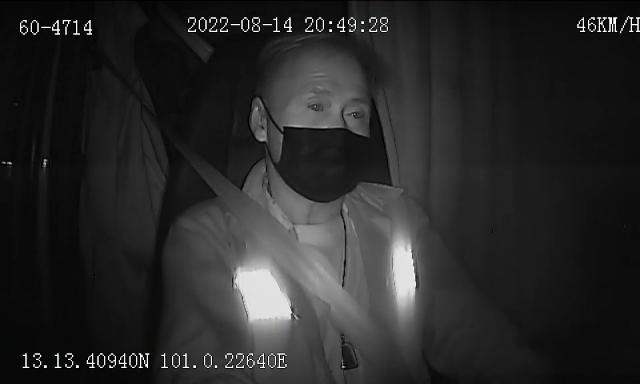SafeDriving: (341, 101, 372, 124), (302, 94, 332, 116)
Seatbelt: (185, 153, 372, 375)
